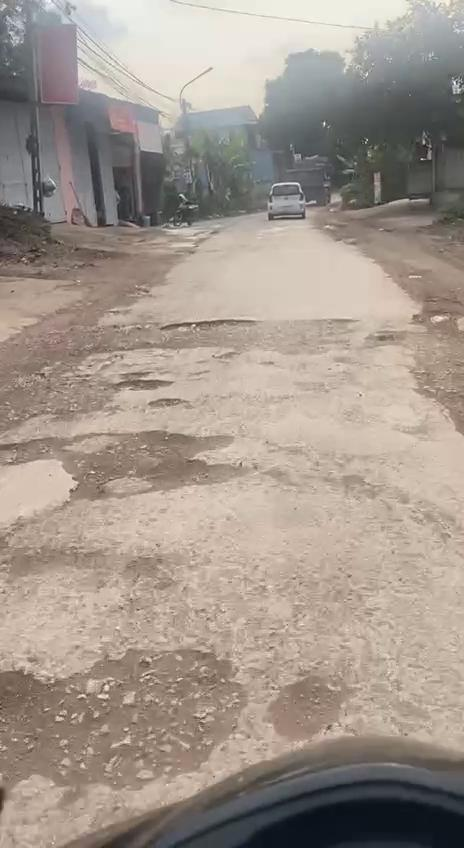pothole: (0, 638, 251, 808), (0, 425, 265, 504), (267, 666, 346, 746), (156, 312, 255, 339), (112, 374, 181, 397)
